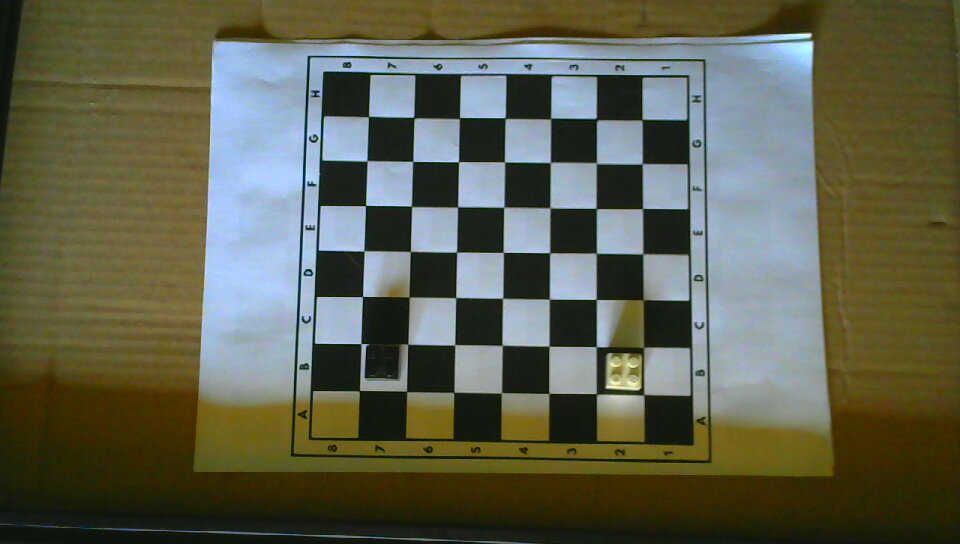bp: (364, 343, 400, 383)
wp: (604, 350, 643, 390)
